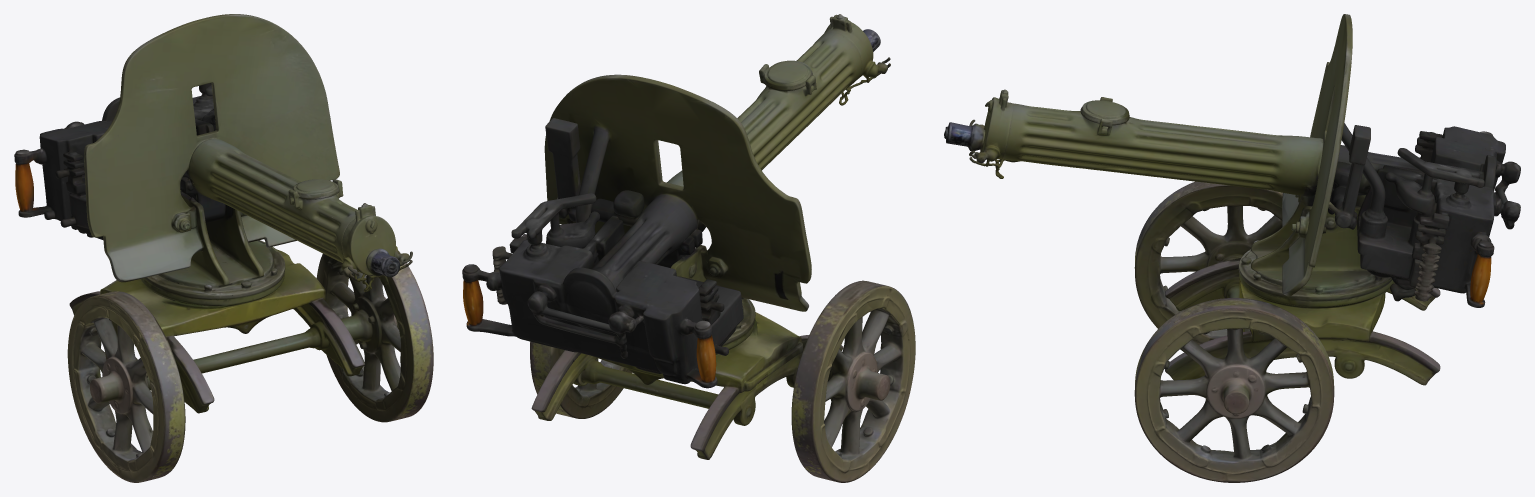
File: 009-polevoe-artilleriyskoe-orudie.glb
The picture shows the model from 3 angles, left to right: view 1: azimuth 30°, elevation 25°; view 2: azimuth 150°, elevation 25°; view 3: azimuth 270°, elevation 25°; orthographic projection. The views are drawn at different scales.
Visible parts, largest first — view 1: node_0; view 2: node_0; view 3: node_0.
Boxes of the visible parts, bbox=[...] form: node_0: bbox=[14, 14, 433, 482]; node_0: bbox=[462, 14, 915, 482]; node_0: bbox=[944, 14, 1520, 482].
Bounding box in the file's own units: 0.7114 × 0.8391 × 1.13.
1 material, 1 textured.
